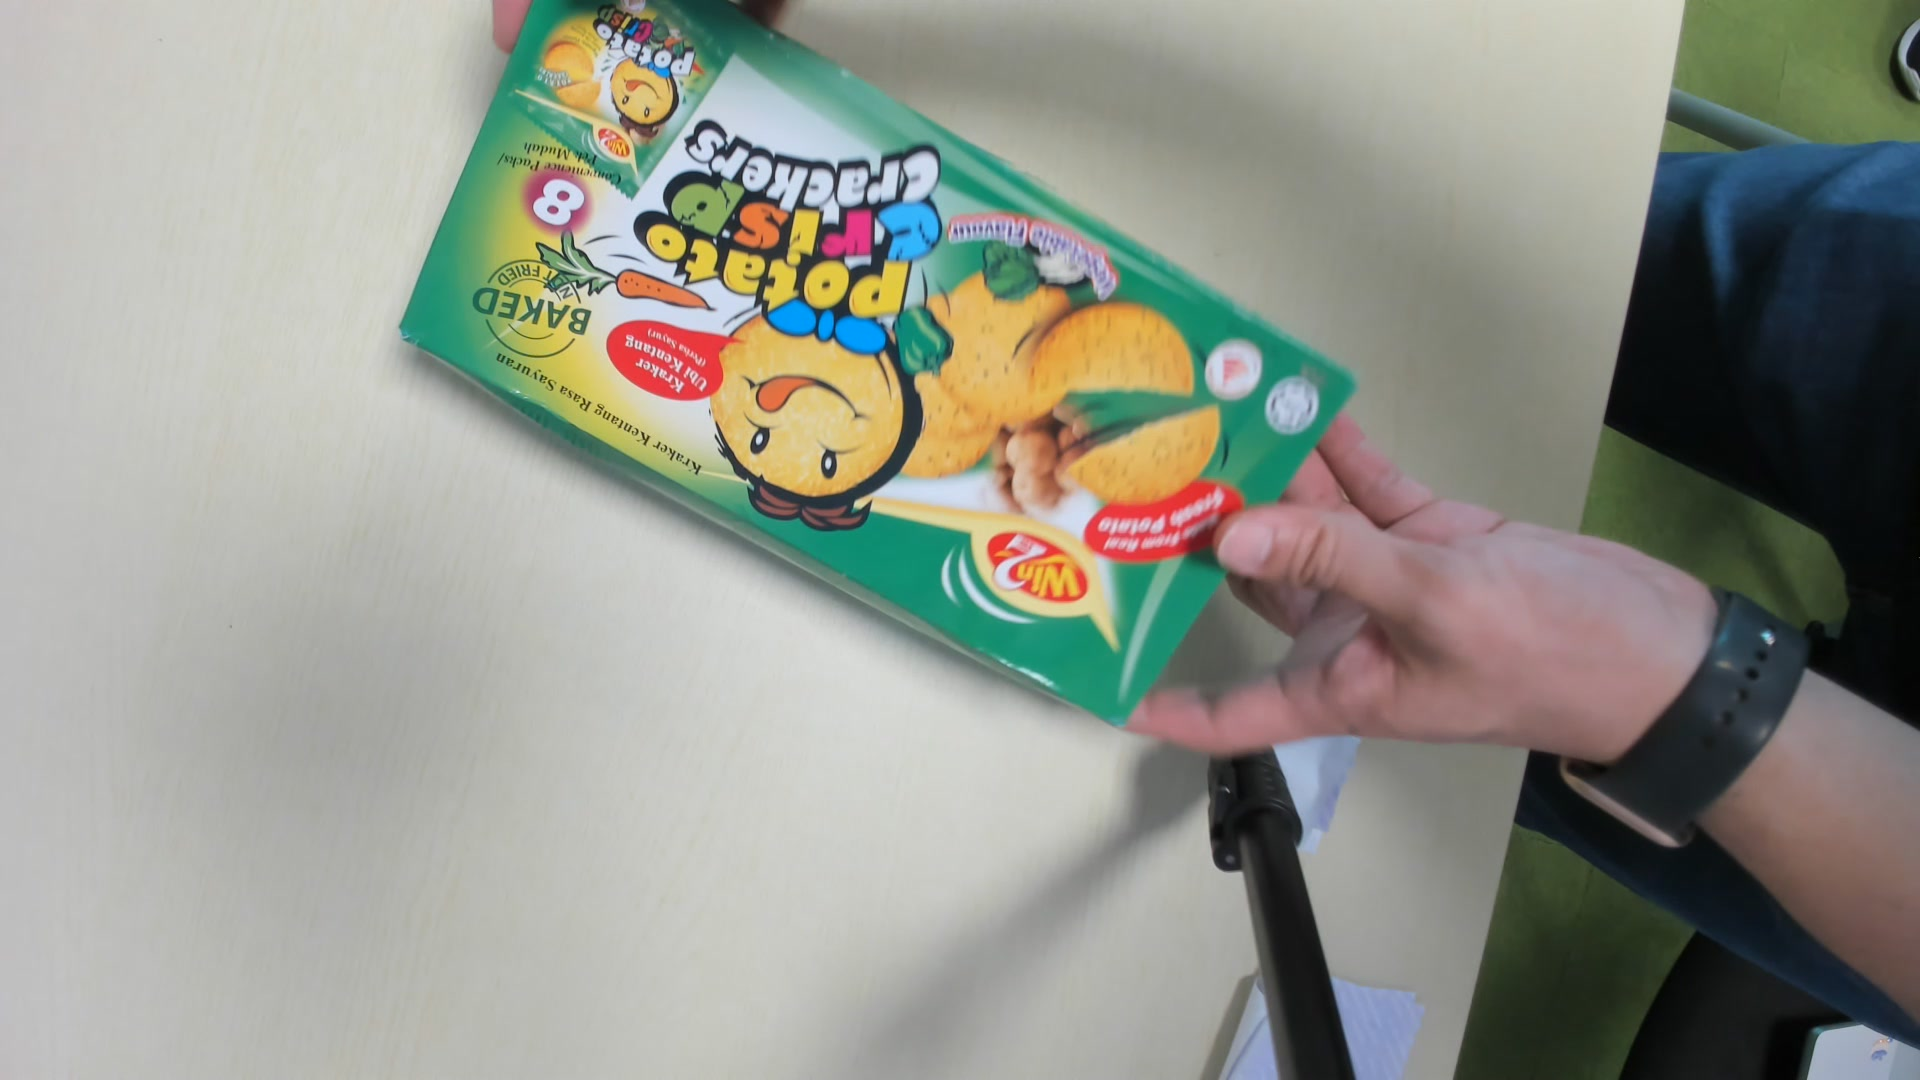PotatoChipsKeropok_100-200g_Halal_Healthy: (411, 3, 1354, 719)
